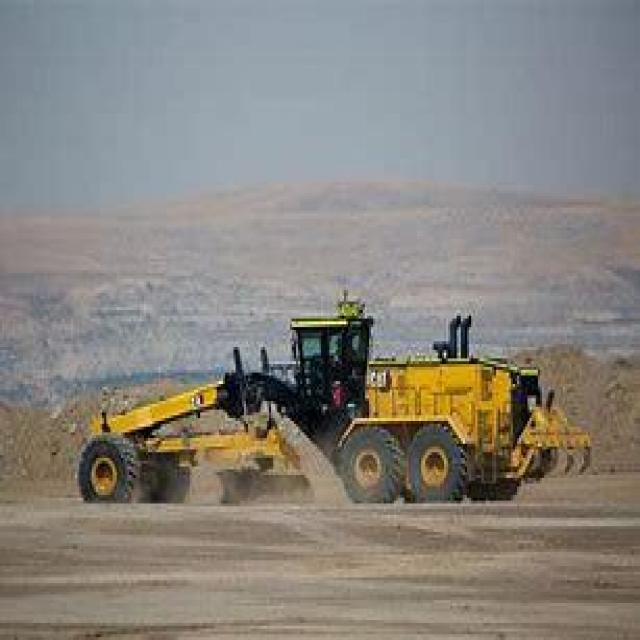Grader: (79, 301, 596, 532)
